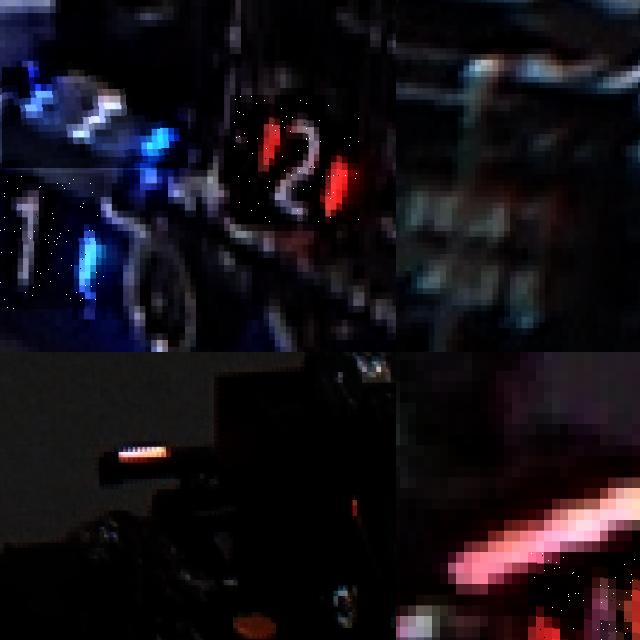B1: (2, 68, 188, 170), (0, 173, 103, 309)
R2: (230, 95, 359, 224)
R4: (528, 552, 640, 640)
